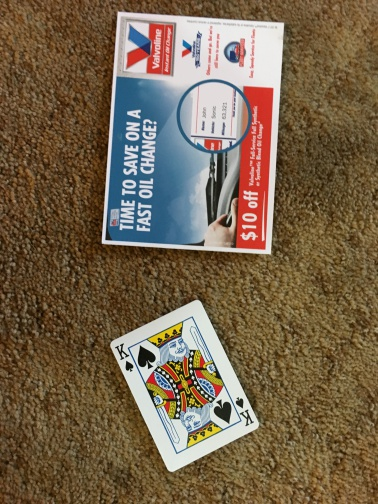king: (109, 297, 260, 469)
